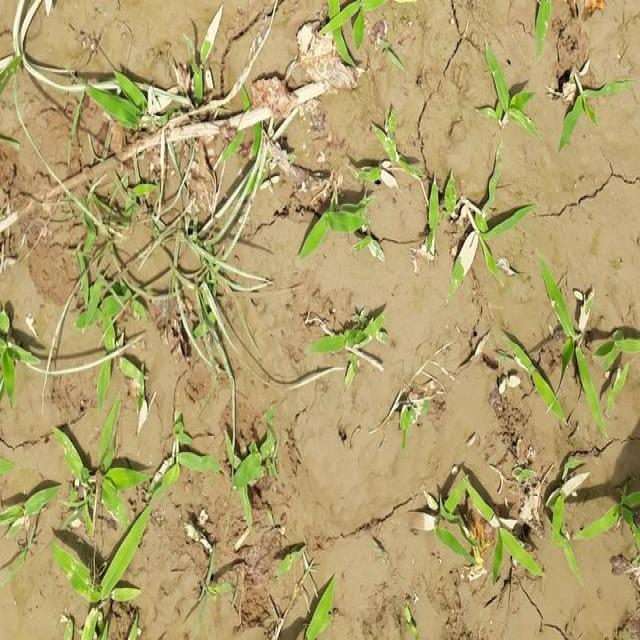weed: (50, 391, 221, 640), (298, 127, 534, 268), (427, 454, 640, 586), (501, 279, 638, 422)
